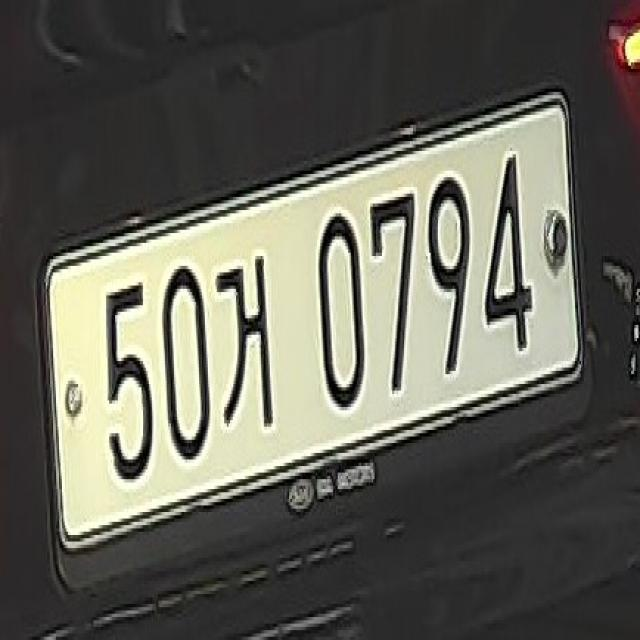0: (314, 198, 365, 419), (162, 253, 208, 484)
4: (480, 136, 536, 374)
5: (98, 284, 156, 484)
7: (368, 183, 418, 402)
9: (424, 168, 470, 388)
geo: (213, 252, 284, 451)
license_plate: (35, 50, 599, 598)
